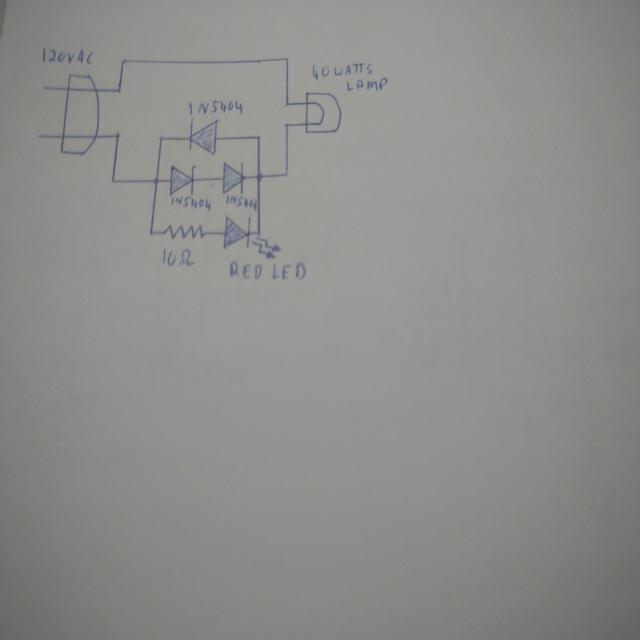diode: (223, 214, 281, 260), (188, 117, 220, 156), (168, 164, 195, 195), (221, 160, 244, 195)
junction: (253, 170, 266, 184), (149, 175, 162, 188), (281, 169, 291, 180), (146, 227, 156, 238), (282, 52, 291, 64), (114, 85, 123, 96), (108, 175, 117, 185), (282, 119, 291, 129), (283, 99, 291, 110), (113, 131, 123, 139), (254, 131, 262, 141), (156, 134, 165, 142), (120, 57, 126, 66)
resistor: (162, 222, 206, 242)
terminal: (38, 84, 47, 92), (35, 133, 43, 140)
text: (227, 258, 306, 284), (40, 43, 96, 69), (309, 61, 374, 80), (186, 98, 244, 118), (160, 246, 197, 269), (344, 76, 388, 95), (168, 194, 212, 213), (225, 193, 257, 212)
